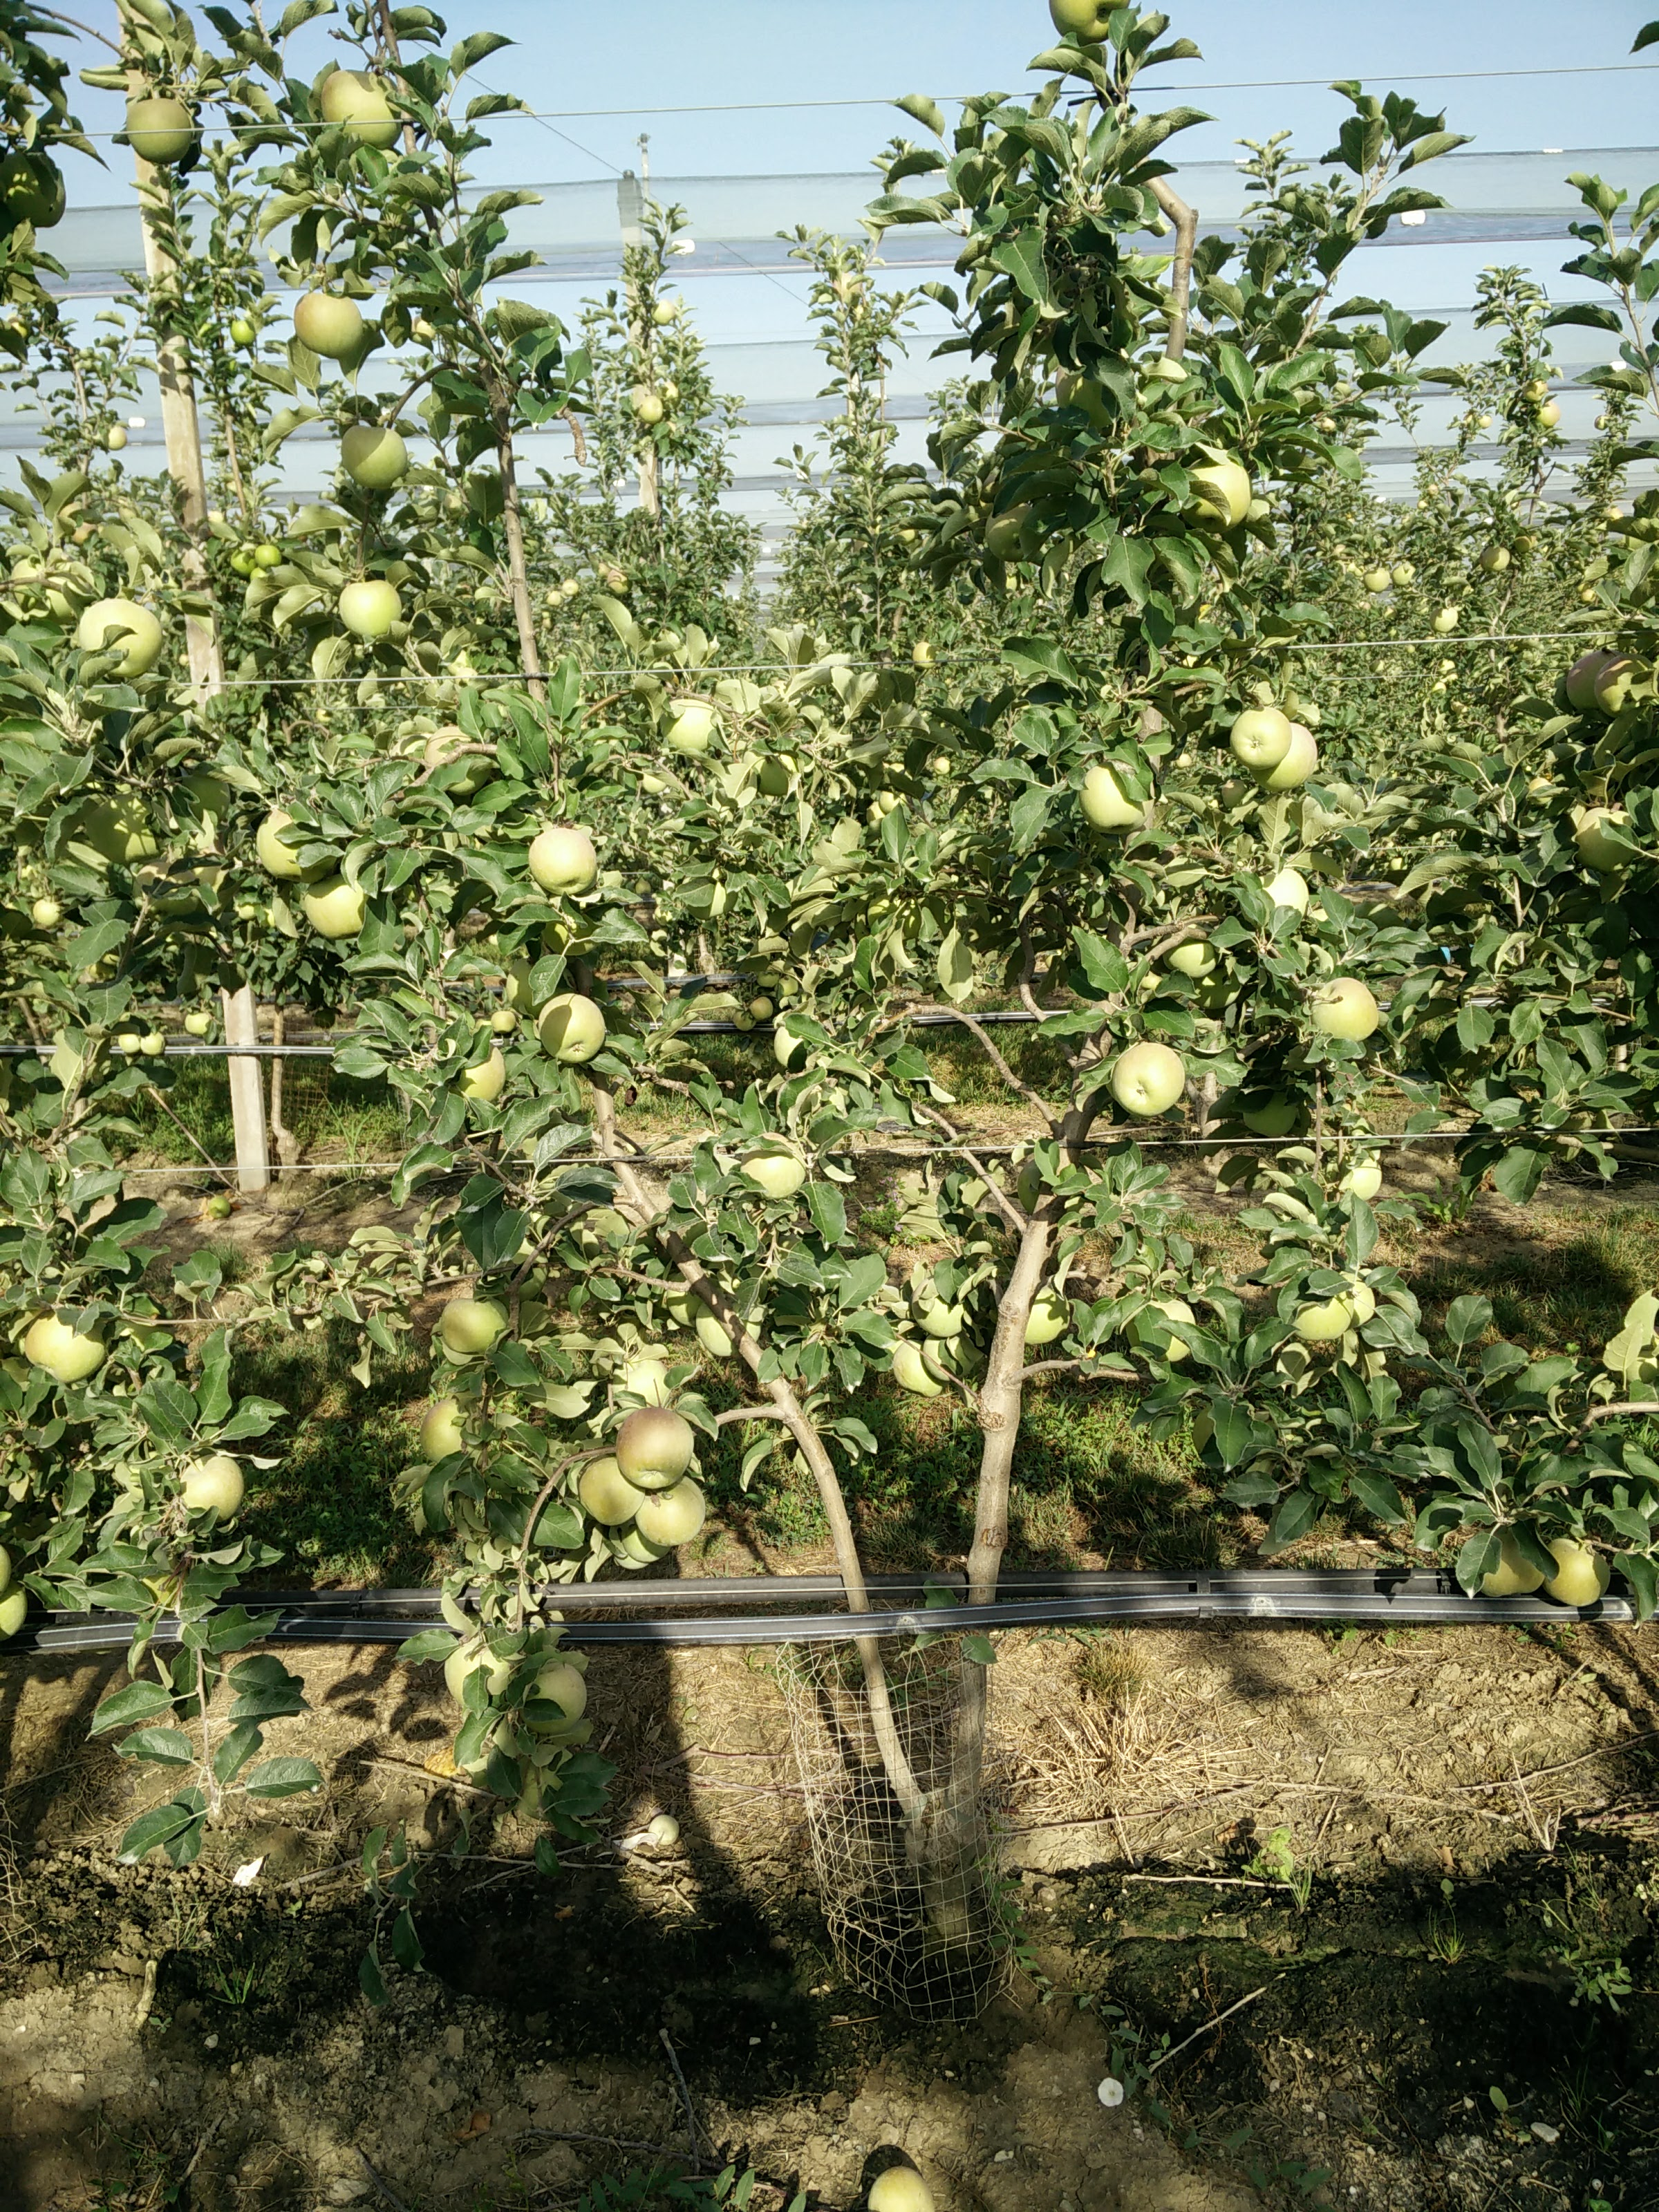apple: (1168, 447, 1256, 532), (319, 64, 404, 148), (75, 597, 163, 677), (610, 1407, 691, 1492), (19, 1302, 104, 1382), (1073, 759, 1159, 835), (1107, 1040, 1187, 1116), (1468, 1527, 1548, 1601), (1537, 1534, 1613, 1609), (303, 874, 380, 946), (534, 993, 611, 1064), (252, 807, 324, 881), (525, 826, 597, 897), (736, 1131, 806, 1201), (1289, 1270, 1360, 1340), (523, 1660, 592, 1734), (170, 1452, 248, 1519), (1308, 975, 1381, 1042), (338, 420, 408, 489), (290, 289, 365, 356), (575, 1459, 648, 1524), (635, 1480, 707, 1547), (122, 96, 191, 160), (335, 575, 405, 639), (440, 1295, 512, 1358), (1228, 702, 1291, 767)
